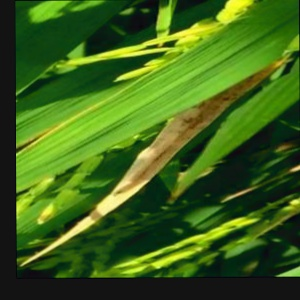Leaf_Blast: (107, 148, 160, 198)
